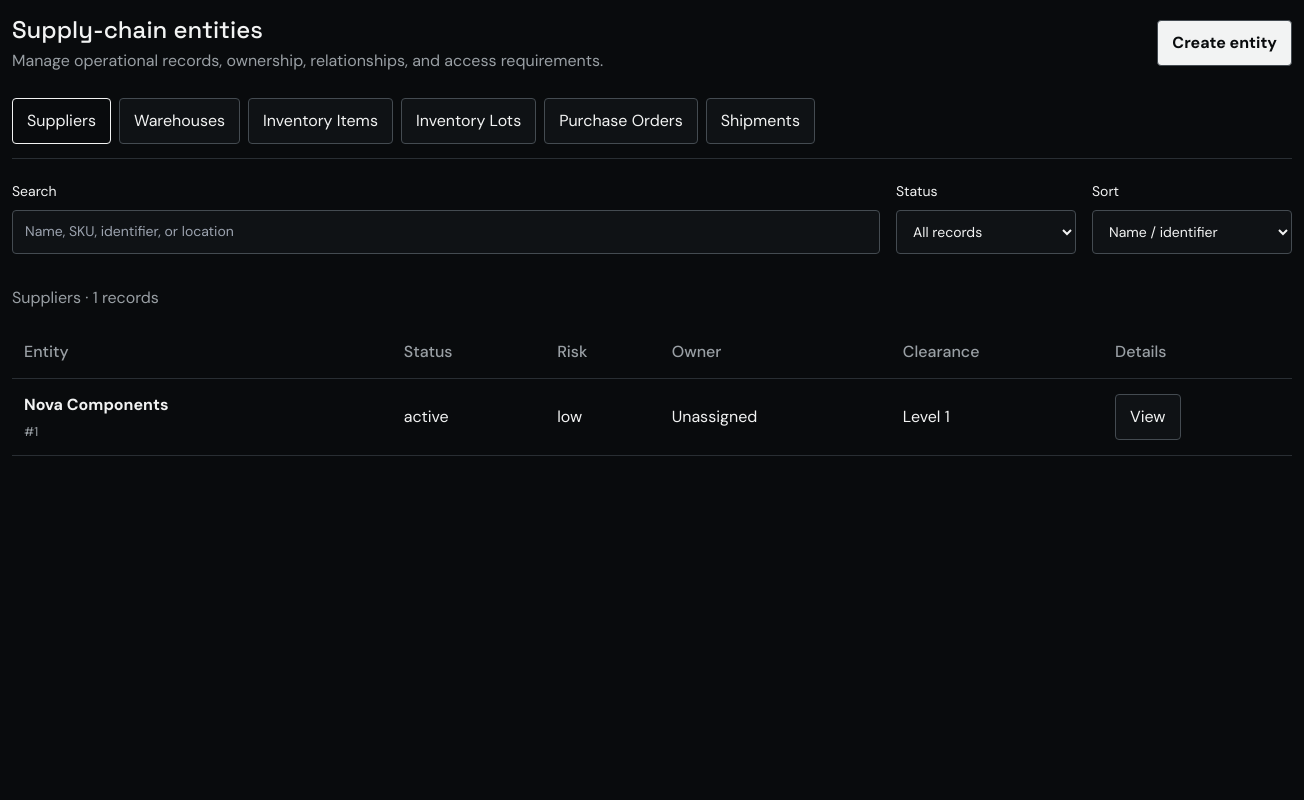
it: searches and filters records and loads functional details
expect the text "Nova Components" is shown: met, box [24,394,168,415]
Type "Nova" into the field labelled "Search" at (446, 232), box [12,210,880,254]
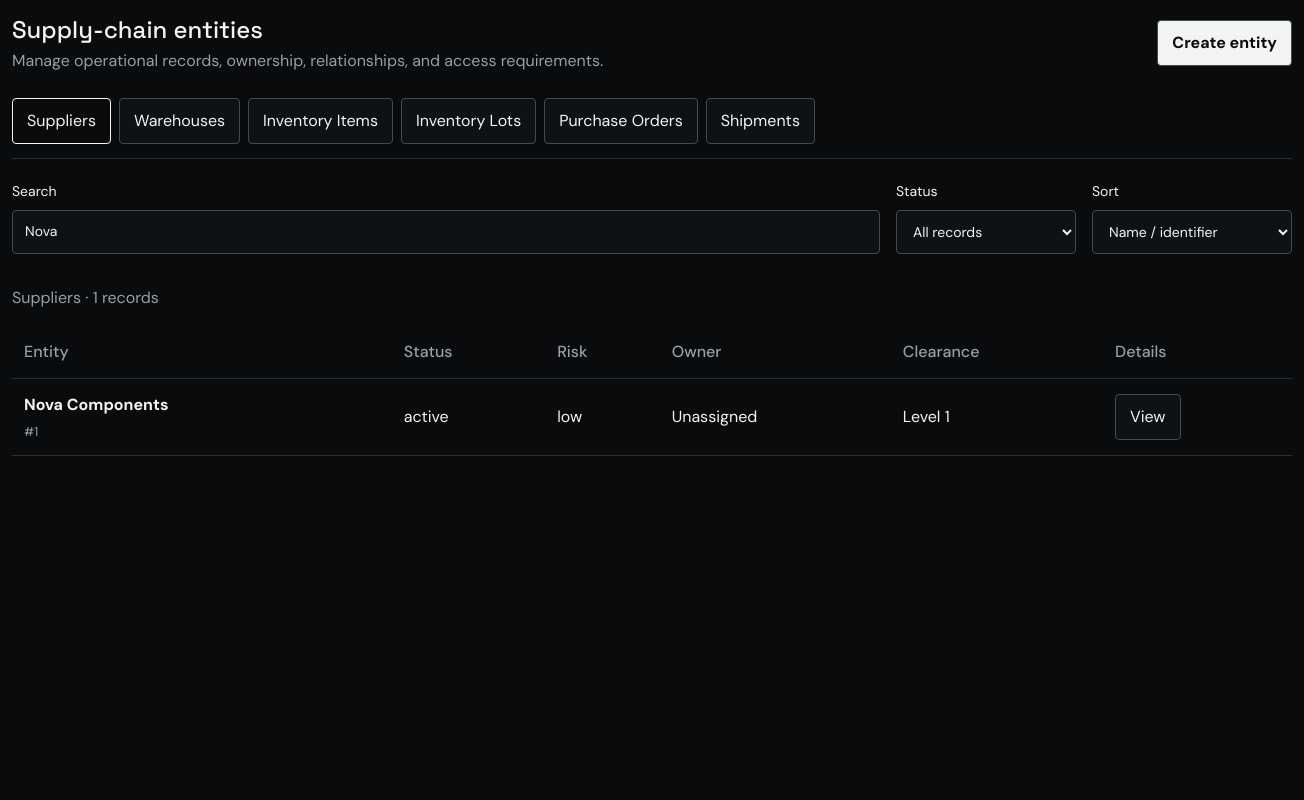
Click the button with aria-label "View Nova Components" at (1148, 417), box [1115,394,1180,440]
(page scrolled)
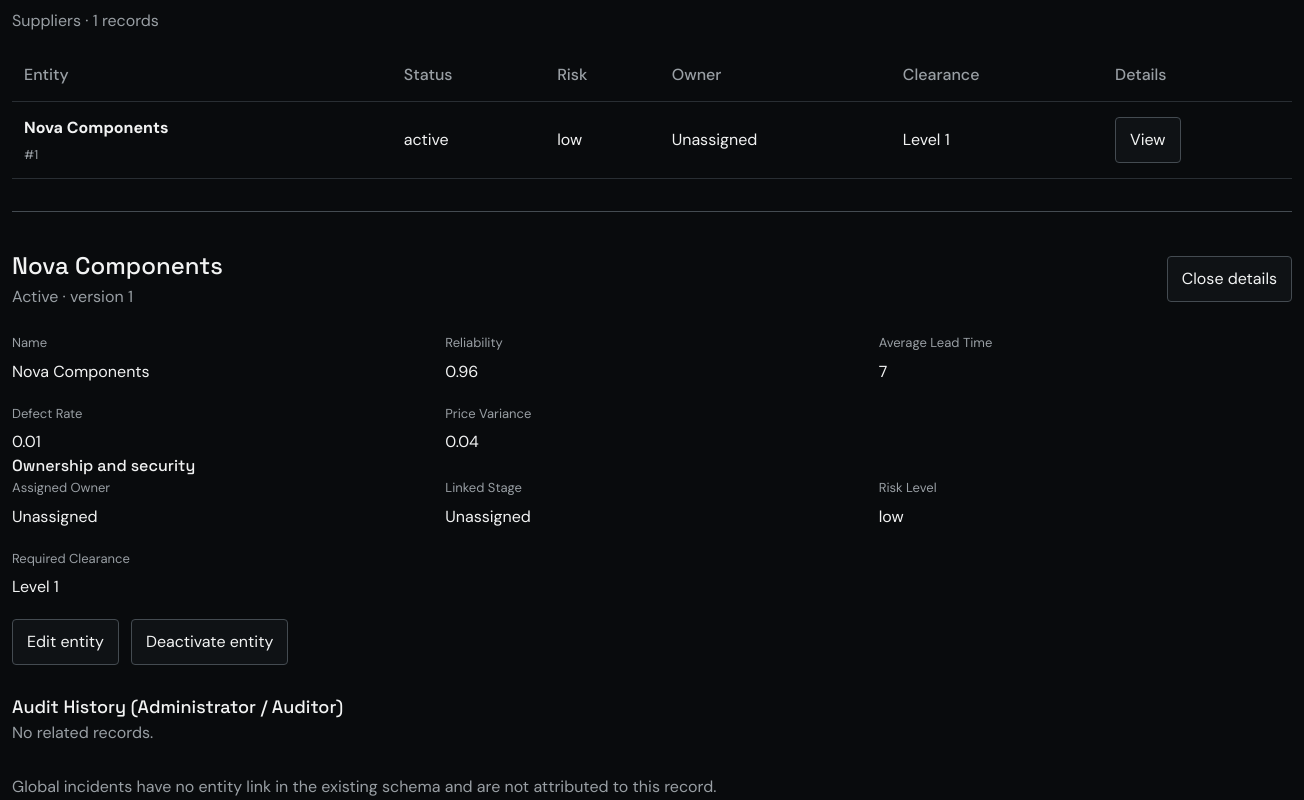
expect the button "Edit entity" is shown: met, box [12,619,119,665]
